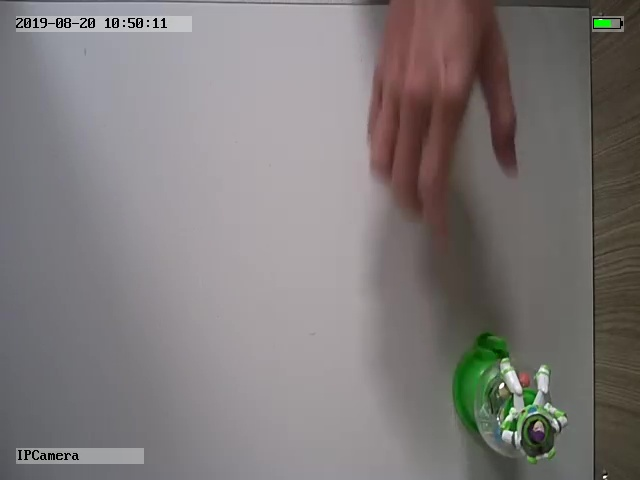buzz: (452, 332, 568, 463)
